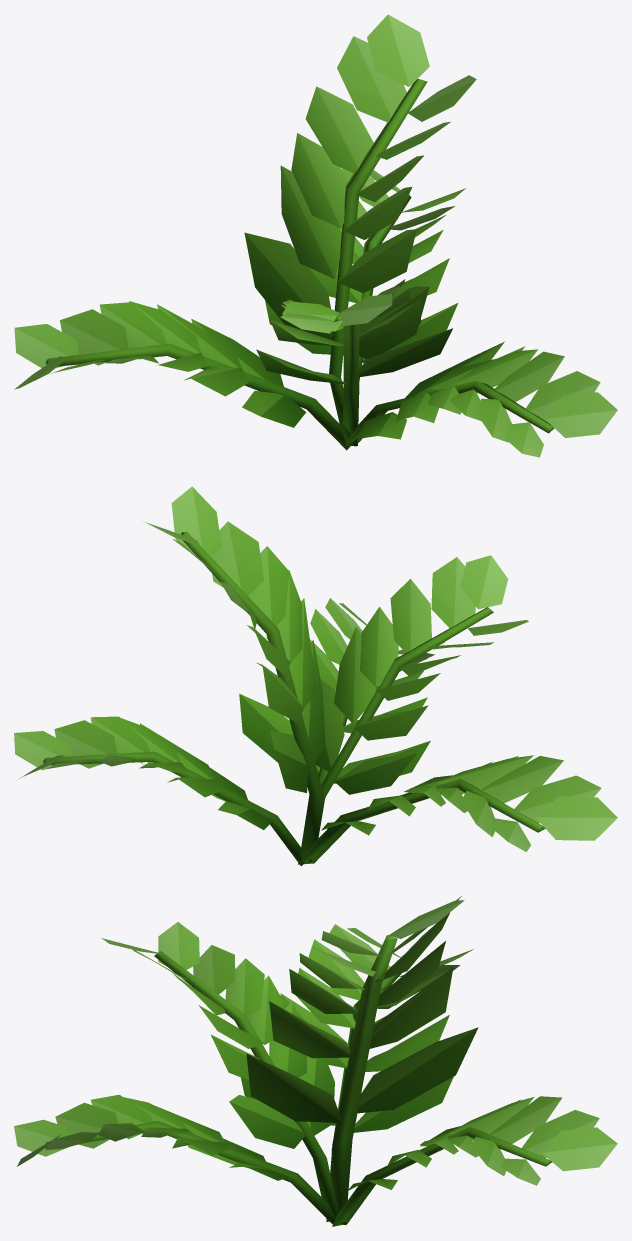
Rendered from SM_Generic_Plant_01.fbx.
The picture shows the model from 3 angles, top to bottom: view 1: azimuth 30°, elevation 25°; view 2: azimuth 150°, elevation 25°; view 3: azimuth 270°, elevation 25°; orthographic projection. The views are drawn at different scales.
Visible parts, largest first — view 1: SM_Generic_Plant_01; view 2: SM_Generic_Plant_01; view 3: SM_Generic_Plant_01.
Part boxes in pixels (x1,y1,x2,y2): SM_Generic_Plant_01: [14, 14, 617, 457]; SM_Generic_Plant_01: [14, 486, 617, 866]; SM_Generic_Plant_01: [14, 896, 617, 1226].
Size of the model in its own units: 2.41 by 1.59 by 2.32.
